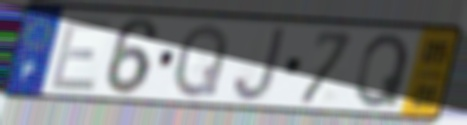6: (101, 16, 161, 99)
7: (298, 29, 357, 106)
E: (46, 15, 115, 94)
J: (231, 24, 289, 104)
Q: (170, 20, 231, 101), (352, 31, 413, 111)
